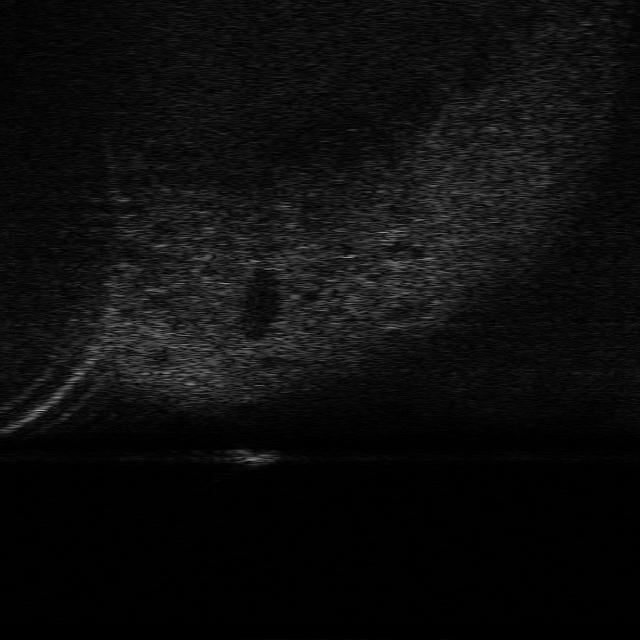cube: (222, 448, 282, 470)
